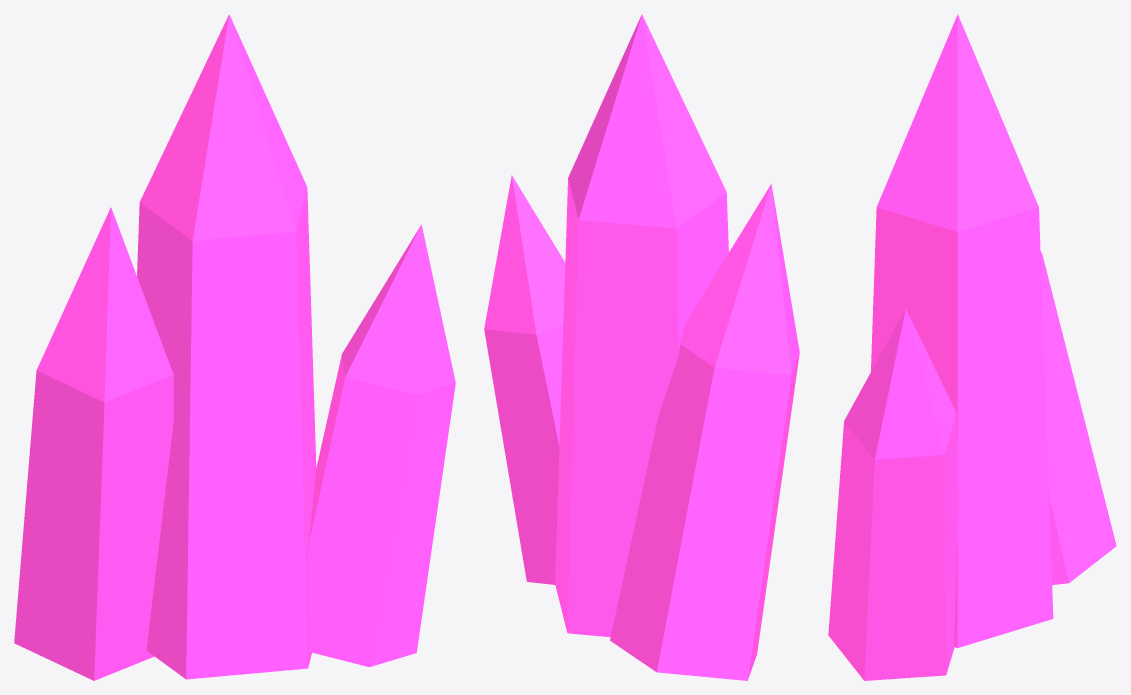
File: GEM_09_GeodeMiniCluster.fbx
3 renders of one model, left to right at view 1: azimuth 30°, elevation 25°; view 2: azimuth 150°, elevation 25°; view 3: azimuth 270°, elevation 25°, orthographic. The views are drawn at different scales.
Visible parts, largest first — view 1: GEM_09_GeodeMiniCluster; view 2: GEM_09_GeodeMiniCluster; view 3: GEM_09_GeodeMiniCluster.
Boxes of the visible parts, <box> form: GEM_09_GeodeMiniCluster: <box>14,14,455,680</box>; GEM_09_GeodeMiniCluster: <box>484,14,799,680</box>; GEM_09_GeodeMiniCluster: <box>828,14,1116,680</box>.
Bounding box in the file's own units: 0.3902 × 0.6666 × 0.287.
